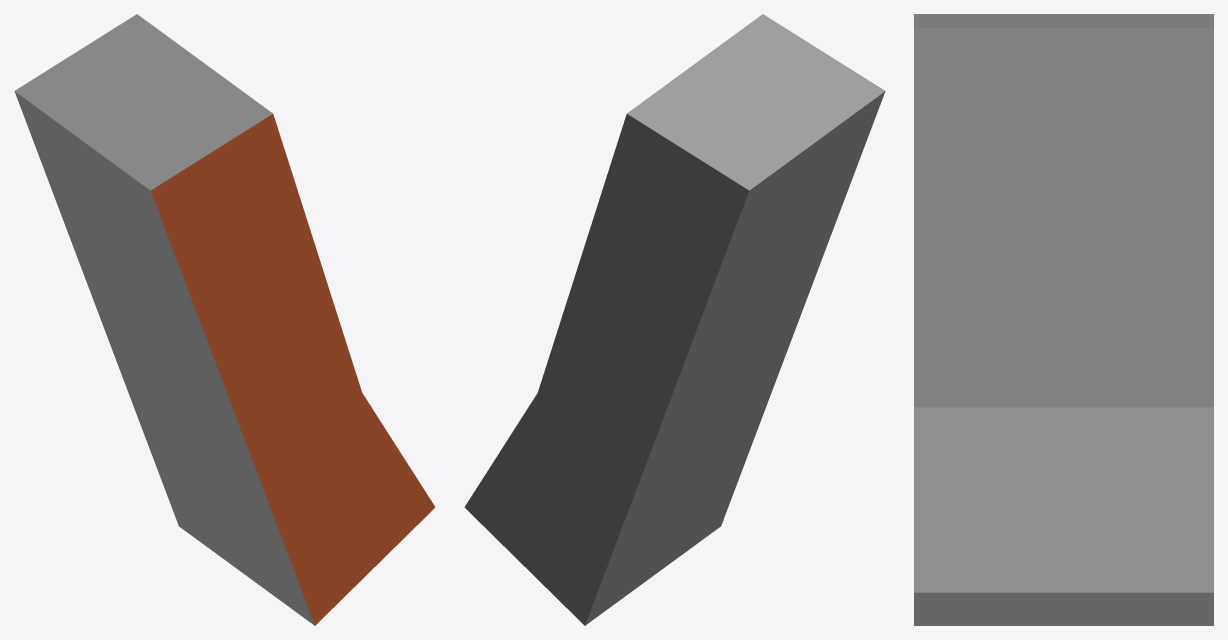
The model's file is construction_4822_assumed_A_Casa_h6m.obj.
3 renders of one model, left to right at view 1: azimuth 30°, elevation 25°; view 2: azimuth 150°, elevation 25°; view 3: azimuth 270°, elevation 25°, orthographic. The views are drawn at different scales.
Visible parts, largest first — view 1: construction_4822_assumed_A_Casa; view 2: construction_4822_assumed_A_Casa; view 3: construction_4822_assumed_A_Casa.
Part boxes in pixels (bbox=[...]): construction_4822_assumed_A_Casa: bbox=[14, 14, 435, 625]; construction_4822_assumed_A_Casa: bbox=[464, 14, 885, 625]; construction_4822_assumed_A_Casa: bbox=[914, 14, 1213, 625].
Bounding box in the file's own units: 7.25 × 12.7 × 6.
